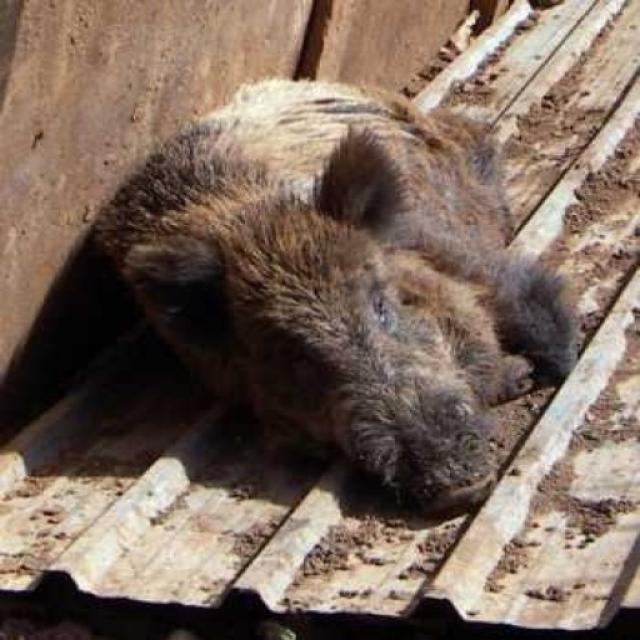pig: (67, 14, 602, 484)
